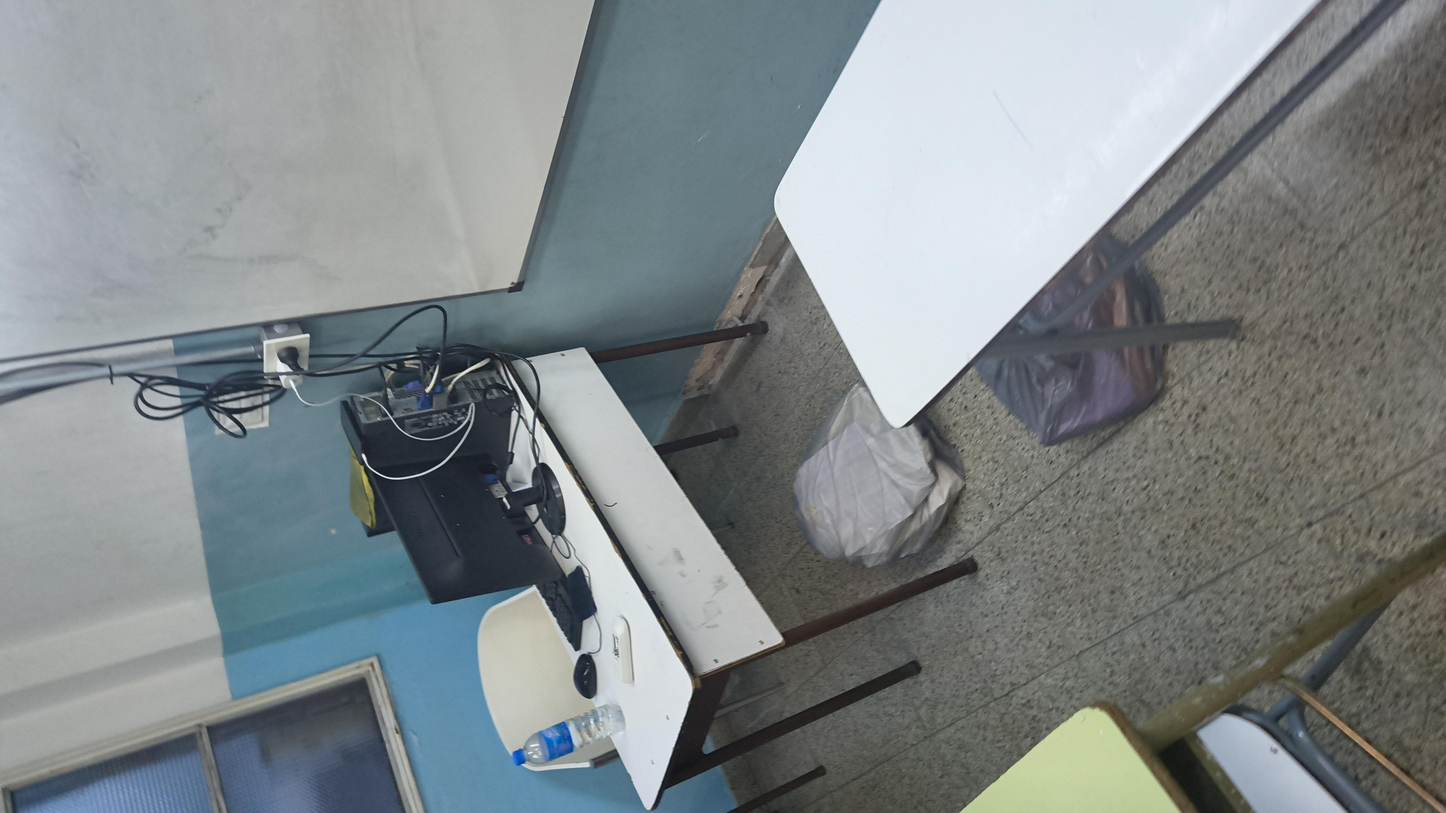Garbage: (609, 532, 1029, 673), (389, 423, 785, 544)
